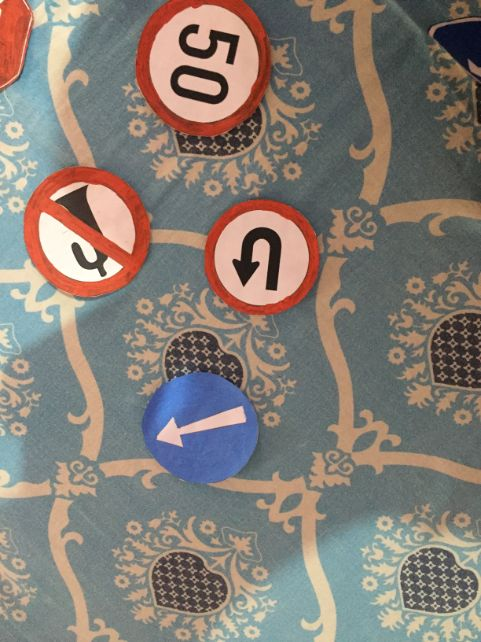keep-left: (142, 372, 257, 487)
no-horn: (24, 170, 150, 296)
speed-50: (137, 1, 271, 135)
u-turn: (204, 198, 321, 315)
